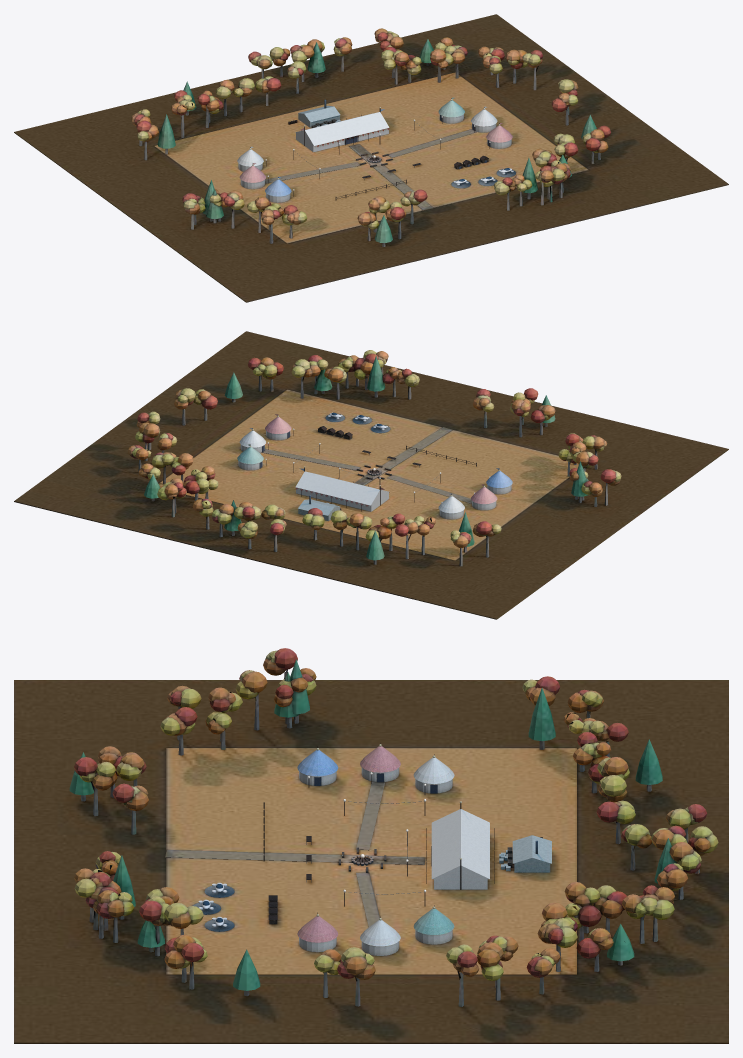
File: hunting_camp.glb
The picture shows the model from 3 angles, top to bottom: view 1: azimuth 30°, elevation 25°; view 2: azimuth 150°, elevation 25°; view 3: azimuth 270°, elevation 25°; orthographic projection. The views are drawn at different scales.
Visible parts, largest first — view 1: site_ground, props_trees, props_tents, props_marquee, props_camp; view 2: site_ground, props_trees, props_tents, props_marquee, props_camp; view 3: site_ground, props_trees, props_tents, props_marquee, props_camp.
Part boxes in pixels (<box>): site_ground: <box>14,14,728,302</box>; props_trees: <box>131,28,610,246</box>; props_tents: <box>237,97,512,202</box>; props_marquee: <box>295,107,389,152</box>; props_camp: <box>293,119,515,200</box>; site_ground: <box>14,331,728,619</box>; props_trees: <box>127,350,621,566</box>; props_tents: <box>237,414,512,520</box>; props_marquee: <box>295,466,389,511</box>; props_camp: <box>293,412,476,504</box>; site_ground: <box>14,680,728,1043</box>; props_trees: <box>69,648,718,1006</box>; props_tents: <box>297,743,551,955</box>; props_marquee: <box>426,801,494,889</box>; props_camp: <box>192,799,510,931</box>.
Bounding box in the file's own units: 192 × 16.06 × 160.
Materials: 5 (5 with a texture image).
